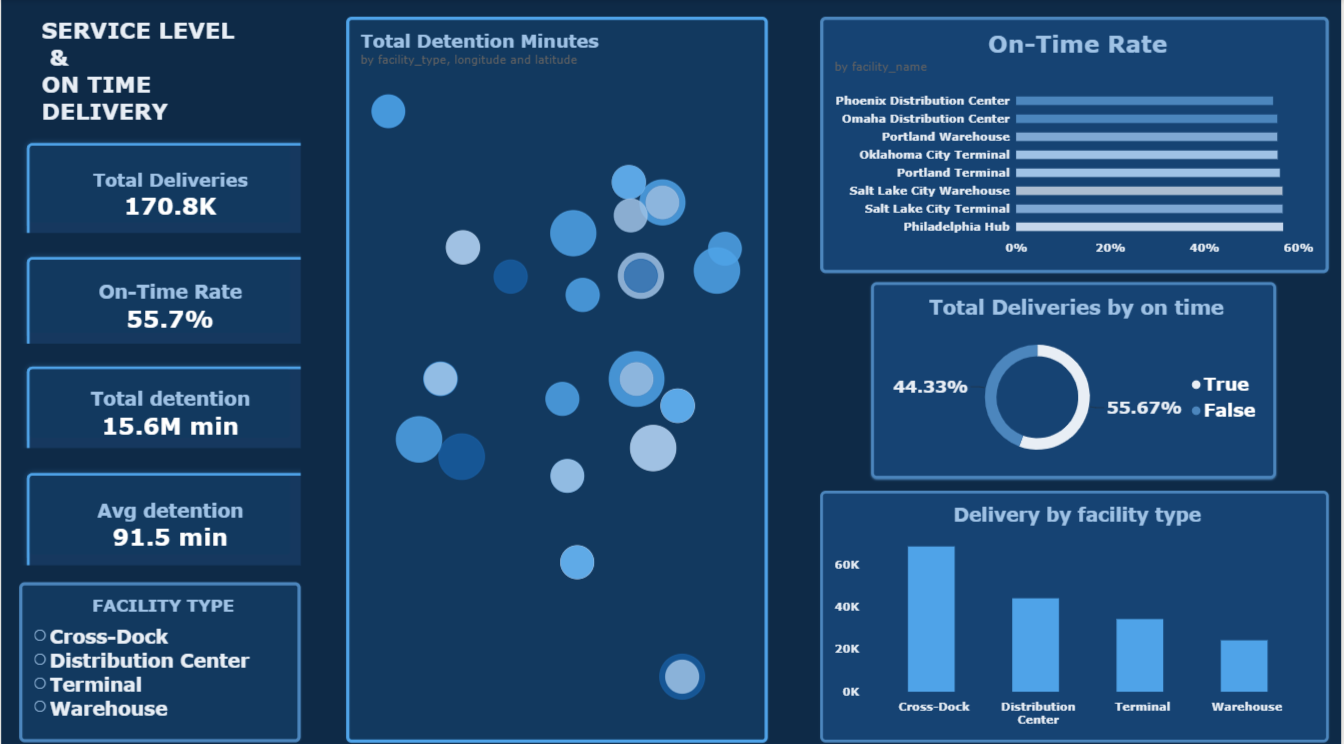

The dashboard page shown, as its layout file describes it:
{"tool":"powerbi","page":{"name":"Service level & on time delivery","canvas":[1920,1080],"ordinal":3},"visuals":[{"type":"cardVisual","fields":{"Data":["delivery_events.Total Detention Minutes"]},"box":[26.2,515.4,403.2,128.8],"z":0},{"type":"cardVisual","fields":{"Data":["delivery_events.Avg Detention Minutes"]},"box":[26.2,668.1,403.2,143.2],"z":1000},{"type":"cardVisual","fields":{"Data":["delivery_events.On-Time Rate"]},"box":[26.2,357.9,403.2,136],"z":2000},{"type":"textbox","box":[57.3,26.2,372.2,169.4],"z":3000},{"type":"cardVisual","fields":{"Data":["delivery_events.Total Deliveries"]},"box":[26.2,195.6,403.2,140.8],"z":4000},{"type":"listSlicer","title":"FACILITY TYPE","fields":{"Values":["facilities.facility_type"]},"box":[26.2,835.1,403.2,229],"z":5000},{"type":"clusteredBarChart","fields":{"Category":["facilities.facility_name"],"Y":["delivery_events.On-Time Rate"]},"box":[1173.1,25.8,728.4,367.4],"z":6000},{"type":"donutChart","title":"Total Deliveries by on time","fields":{"Category":["delivery_events.on_time_flag"],"Y":["delivery_events.Total Deliveries"]},"box":[1246.2,406.1,580.1,281.5],"z":7000},{"type":"columnChart","title":"Delivery by facility type","fields":{"Category":["facilities.facility_type"],"Y":["delivery_events.Total Deliveries"]},"box":[1173.1,704.7,728.4,361],"z":8000},{"type":"scatterChart","fields":{"X":["facilities.longitude"],"Y":["facilities.latitude"],"Series":["facilities.facility_type"],"Size":["delivery_events.Total Detention Minutes"]},"box":[494.2,25.8,603.8,1039.9],"z":9000}]}

Visuals, with their boxes in screenshot pixels (x1, y1, x2, y2), scaled from the page's 1920x1080 canvas onto the 1344x744 screenshot:
cardVisual - delivery_events.Total Detention Minutes: (18, 355, 301, 444)
cardVisual - delivery_events.Avg Detention Minutes: (18, 460, 301, 559)
cardVisual - delivery_events.On-Time Rate: (18, 247, 301, 340)
textbox: (40, 18, 301, 135)
cardVisual - delivery_events.Total Deliveries: (18, 135, 301, 232)
"FACILITY TYPE" listSlicer: (18, 575, 301, 733)
clusteredBarChart - facilities.facility_name x delivery_events.On-Time Rate: (821, 18, 1331, 271)
"Total Deliveries by on time" donutChart: (872, 280, 1278, 474)
"Delivery by facility type" columnChart: (821, 485, 1331, 734)
scatterChart - facilities.longitude x facilities.latitude: (346, 18, 769, 734)
